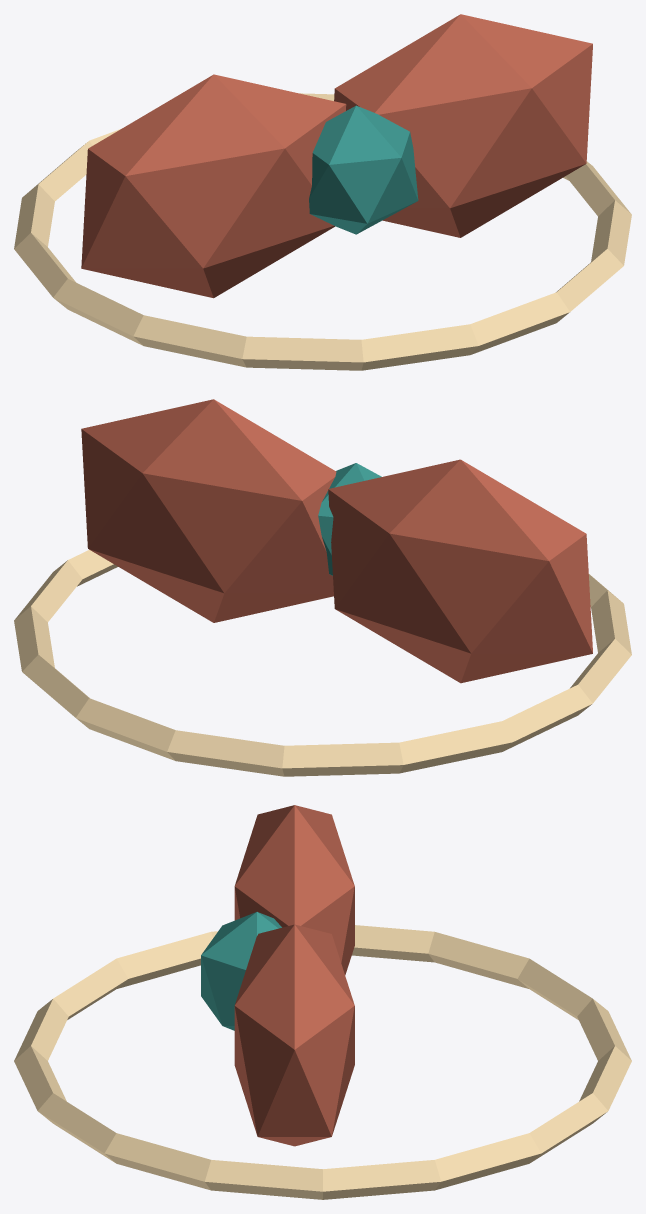
Rendered from outfit_bow.glb.
3 views of the same model, one above another, from view 1: azimuth 30°, elevation 25°; view 2: azimuth 150°, elevation 25°; view 3: azimuth 270°, elevation 25° (orthographic).
Parts seen in each view (by area): view 1: bow, bow.001, band, knot; view 2: bow, bow.001, band, knot; view 3: band, bow.001, bow, knot.
Boxes of the visible parts, x1=… form: bow: x1=81, y1=74, x2=346, y2=298; bow.001: x1=334, y1=14, x2=592, y2=237; band: x1=14, y1=93, x2=631, y2=370; knot: x1=309, y1=105, x2=418, y2=234; bow: x1=328, y1=459, x2=592, y2=683; bow.001: x1=81, y1=399, x2=336, y2=622; band: x1=14, y1=550, x2=631, y2=776; knot: x1=318, y1=463, x2=381, y2=575; band: x1=14, y1=925, x2=631, y2=1199; bow.001: x1=234, y1=924, x2=354, y2=1146; bow: x1=234, y1=805, x2=354, y2=974; knot: x1=201, y1=912, x2=281, y2=1030.
Bounding box in the file's own units: 0.656 × 0.26 × 0.656.
